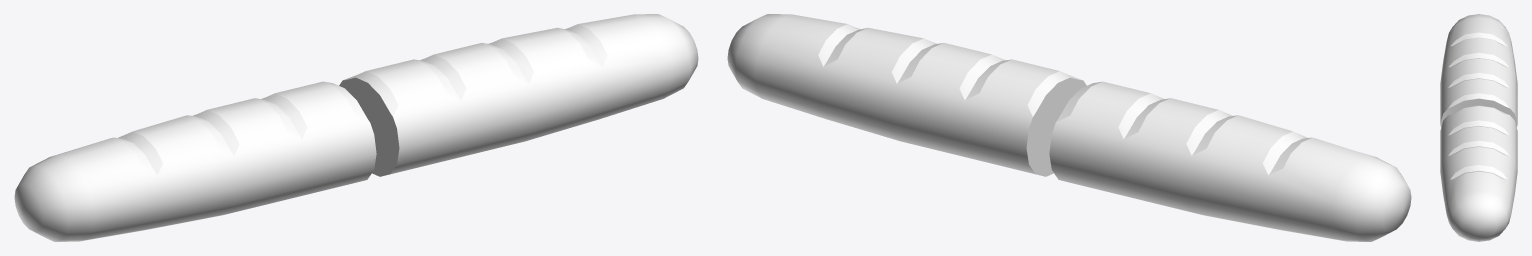
Rendered from Half_baguette_01.fbx.
The picture shows the model from 3 angles, left to right: view 1: azimuth 30°, elevation 25°; view 2: azimuth 150°, elevation 25°; view 3: azimuth 270°, elevation 25°; orthographic projection. The views are drawn at different scales.
Visible parts, largest first — view 1: Half_baguette_02, Half_baguette_01; view 2: Half_baguette_02, Half_baguette_01; view 3: Half_baguette_01, Half_baguette_02.
Part boxes in pixels (box(x1,y1,x2,y2)): Half_baguette_02: box(14, 81, 376, 241); Half_baguette_01: box(339, 14, 698, 176); Half_baguette_02: box(1049, 81, 1411, 241); Half_baguette_01: box(727, 14, 1086, 176); Half_baguette_01: box(1440, 105, 1517, 241); Half_baguette_02: box(1440, 14, 1517, 127).
Size of the model in its own units: 355 by 47.22 by 58.21.
